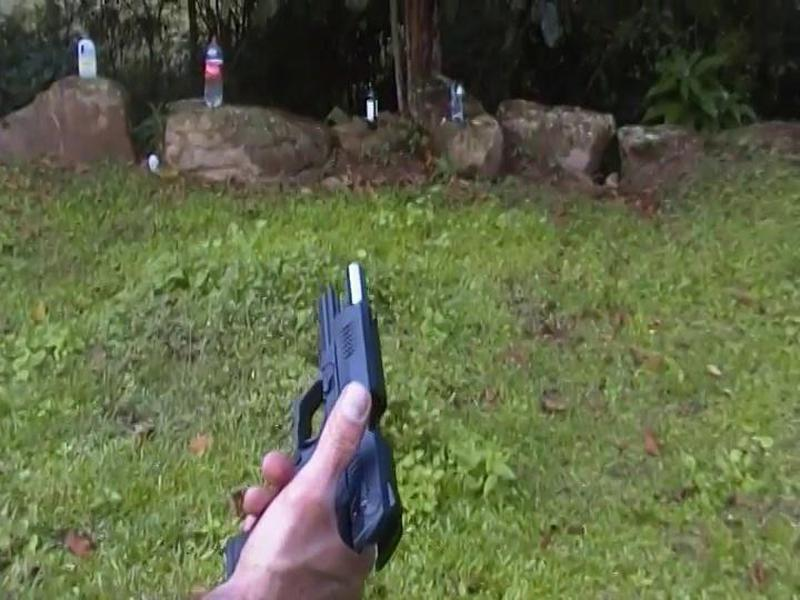Pistola: (218, 252, 420, 566)
